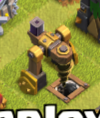dark_elixir_colector: (15, 12, 88, 102)
